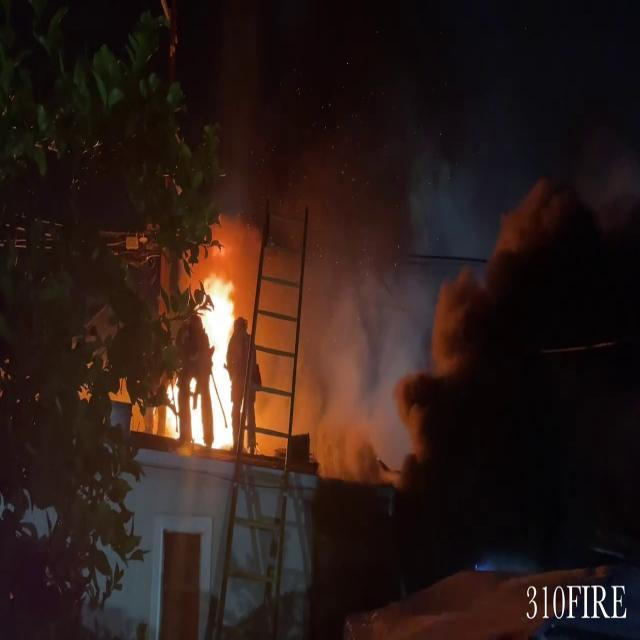Fire: (164, 266, 243, 456)
Smoke: (189, 0, 445, 395)
